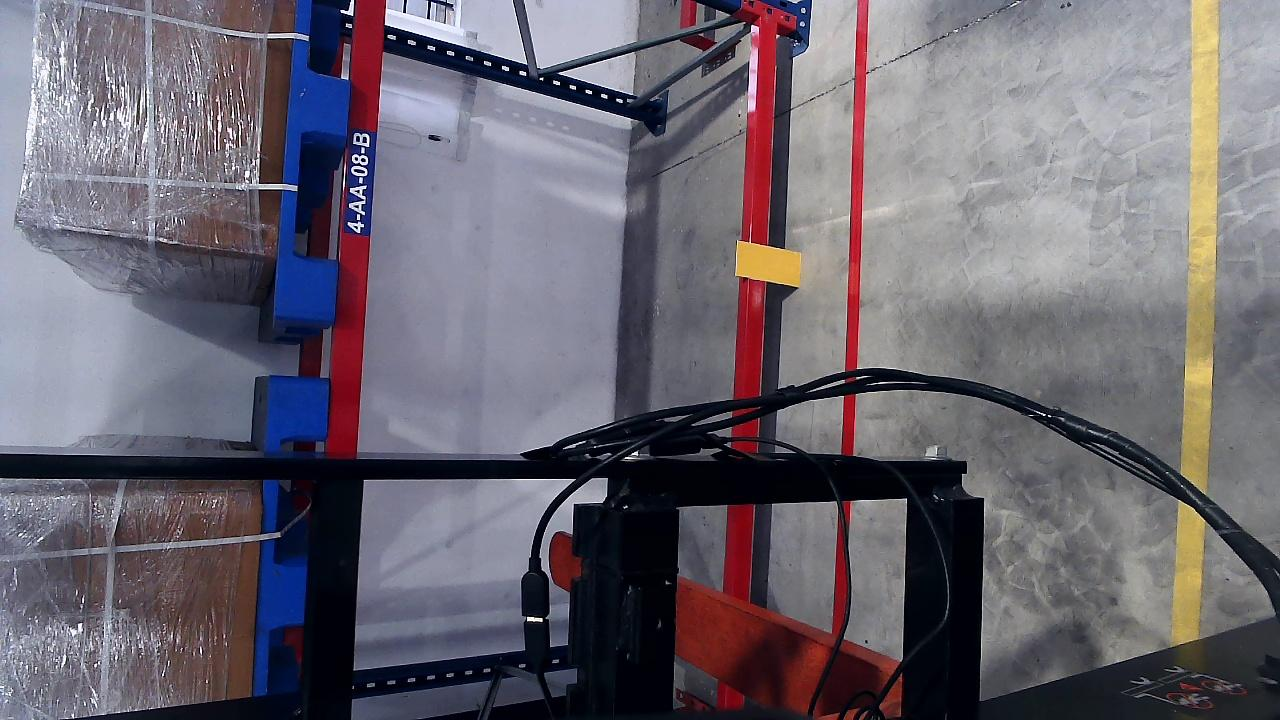h_rack: (324, 0, 391, 454), (735, 13, 781, 398)
orange_strip: (735, 241, 802, 287)
red_line: (843, 4, 868, 371)
small_pallet: (269, 0, 364, 321), (255, 377, 328, 698)
yellow_line: (1177, 5, 1222, 629)
